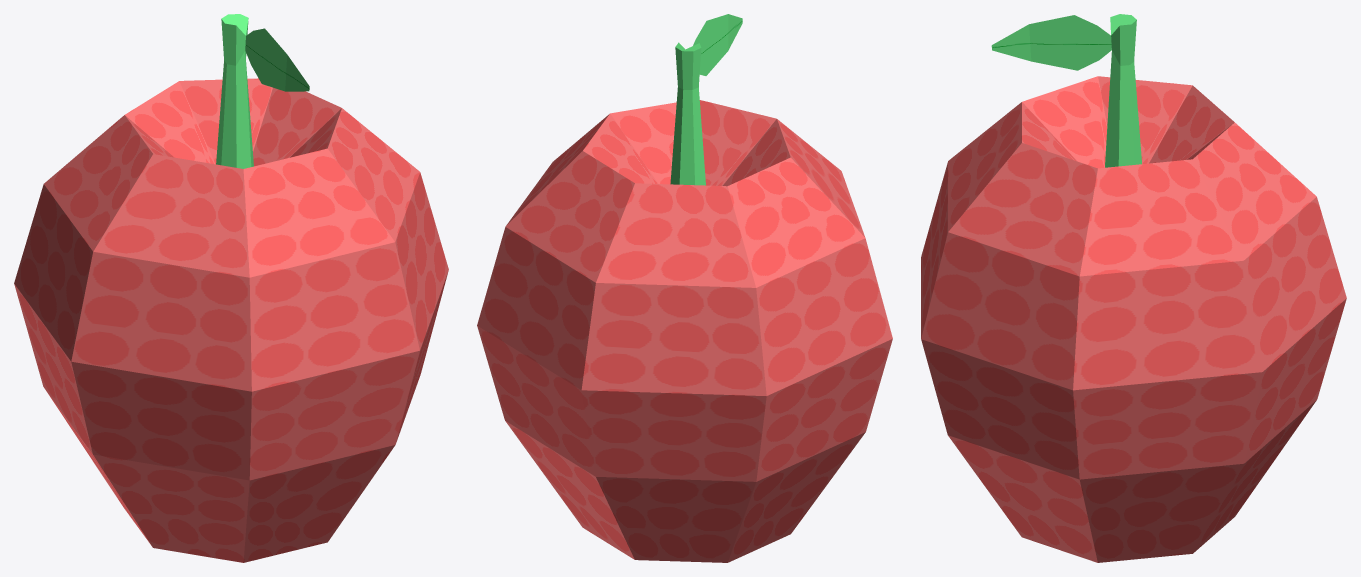
File: frambuesa.fbx
3 views of the same model, side by side, from view 1: azimuth 30°, elevation 25°; view 2: azimuth 150°, elevation 25°; view 3: azimuth 270°, elevation 25° (orthographic). The views are drawn at different scales.
Visible parts, largest first — view 1: Sphere; view 2: Sphere; view 3: Sphere.
Part boxes in pixels (x1,y1,x2,y2): Sphere: (14,14,448,562); Sphere: (477,14,892,562); Sphere: (921,14,1346,562).
Size of the model in its own units: 195 by 262 by 190.
